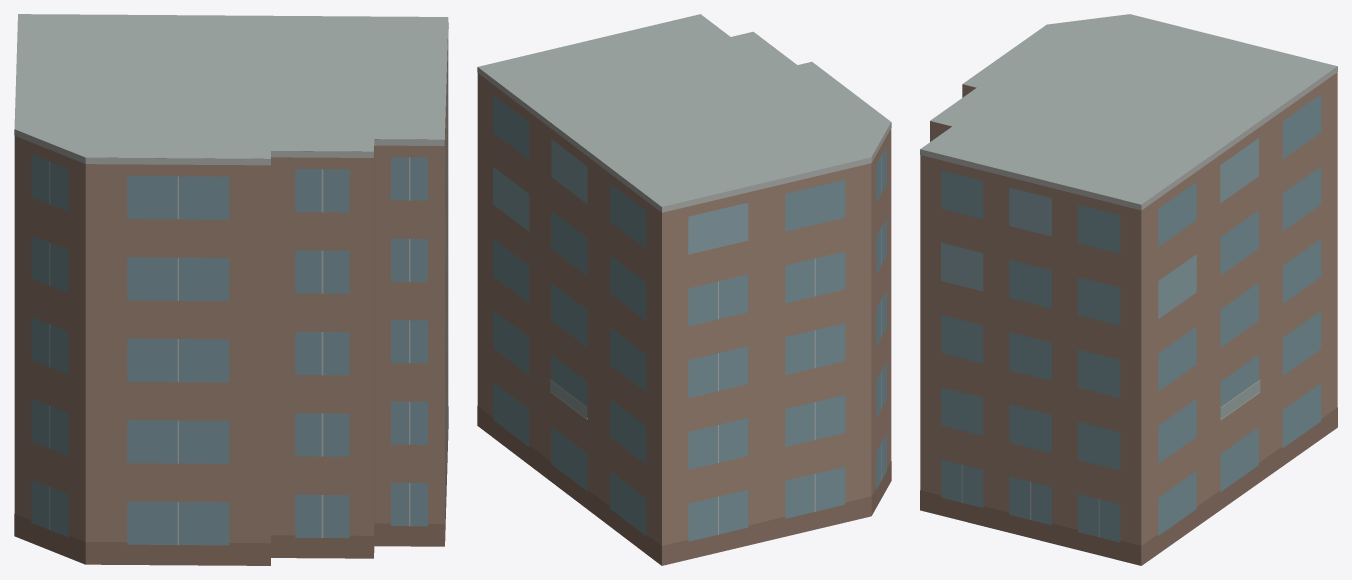
Rendered from survey-upis-32630301.glb.
3 renders of one model, left to right at view 1: azimuth 30°, elevation 25°; view 2: azimuth 150°, elevation 25°; view 3: azimuth 270°, elevation 25°, orthographic. The views are drawn at different scales.
Parts seen in each view (by area): view 1: survey-upis-32630301.tmp; view 2: survey-upis-32630301.tmp; view 3: survey-upis-32630301.tmp.
Part boxes in pixels (<box>): survey-upis-32630301.tmp: <box>14,14,448,565</box>; survey-upis-32630301.tmp: <box>477,14,891,565</box>; survey-upis-32630301.tmp: <box>920,14,1337,565</box>.
Size of the model in its own units: 17.28 by 15.25 by 15.99.
